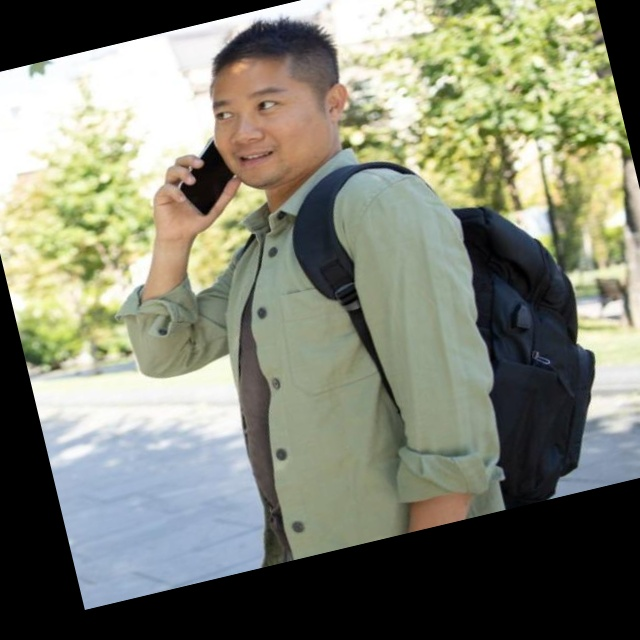Sin_Casco_Mascarrilla: (187, 5, 367, 198)
Sin_Chaleco: (181, 150, 515, 560)
